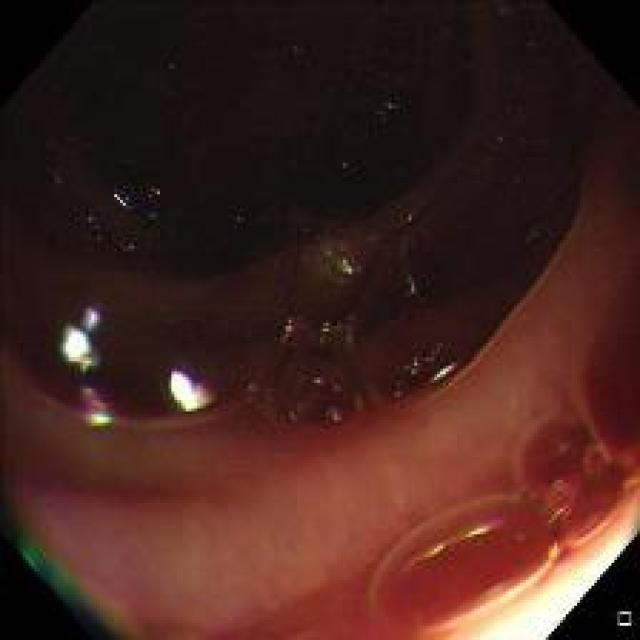bubbles: (356, 488, 556, 619), (72, 210, 109, 248), (296, 218, 325, 245), (332, 146, 358, 172), (225, 209, 252, 232), (116, 238, 136, 268), (520, 226, 548, 246), (379, 94, 399, 114), (289, 41, 302, 56)
color misalignment: (15, 525, 106, 621), (56, 306, 116, 429), (575, 404, 622, 480), (156, 364, 219, 411), (404, 349, 462, 385), (326, 244, 364, 284), (275, 311, 302, 349), (545, 538, 571, 566), (109, 185, 135, 212), (622, 441, 636, 491), (416, 540, 449, 560), (466, 518, 495, 540), (401, 272, 422, 301), (318, 319, 340, 345), (324, 398, 344, 426), (311, 371, 329, 390)
contrast: (4, 2, 634, 388)
saturation: (444, 520, 635, 636)
